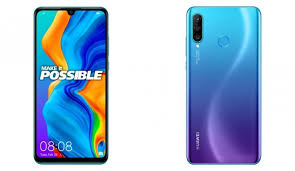huawei: (29, 3, 110, 164), (183, 4, 264, 165)
